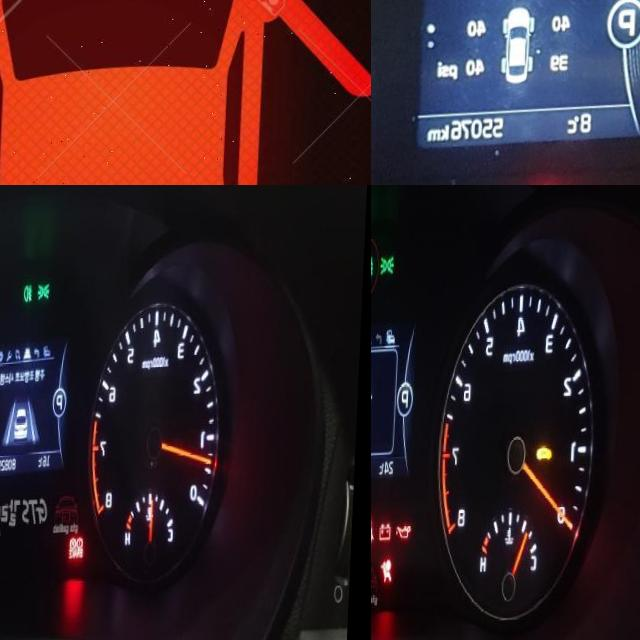FrontFogLight: (26, 286, 36, 307), (371, 258, 375, 280)
SideLamp: (382, 257, 397, 279), (40, 284, 53, 303)
